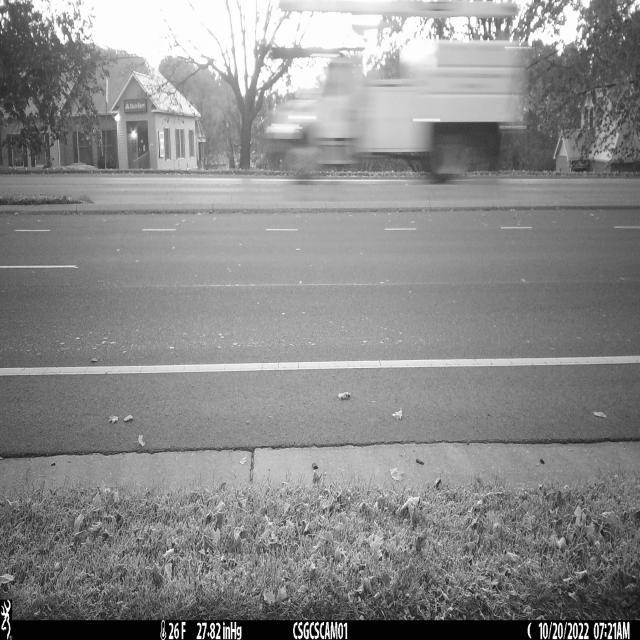Truck- 2-Axle: (267, 0, 531, 183)
